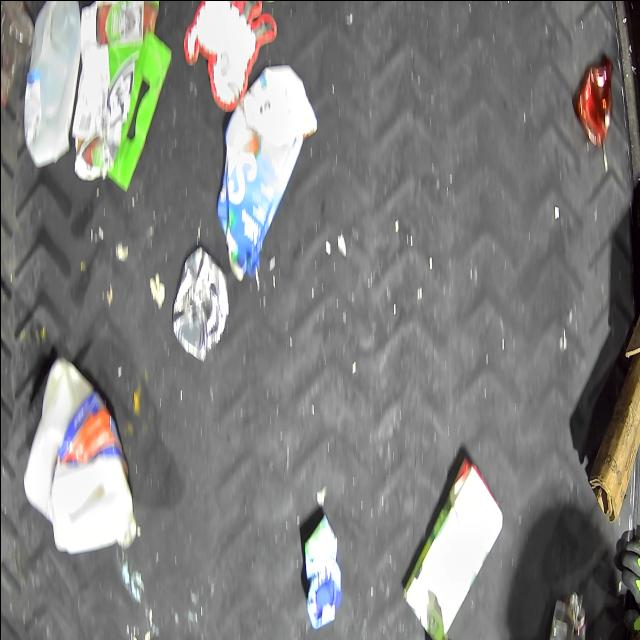can: (172, 247, 228, 361), (546, 592, 586, 640)
milk_jug: (22, 357, 136, 555), (22, 0, 78, 170)
non_white_jug: (215, 66, 318, 280), (303, 517, 340, 627)
